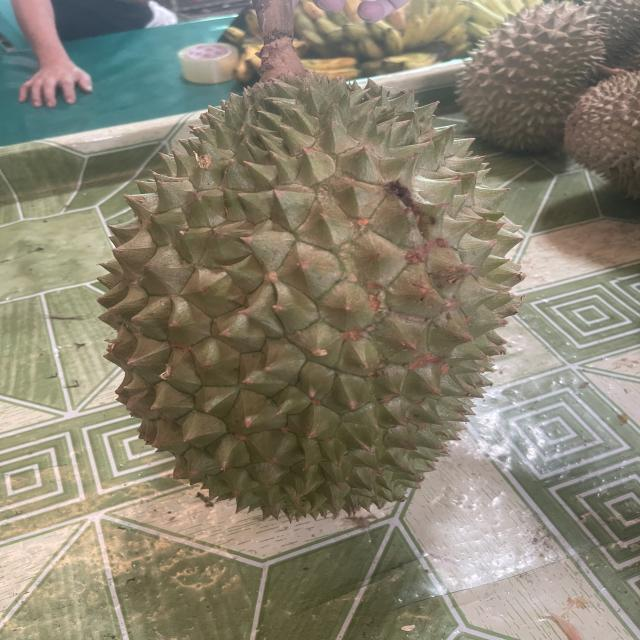mature: (91, 72, 518, 524), (446, 3, 618, 161), (556, 70, 640, 190)
